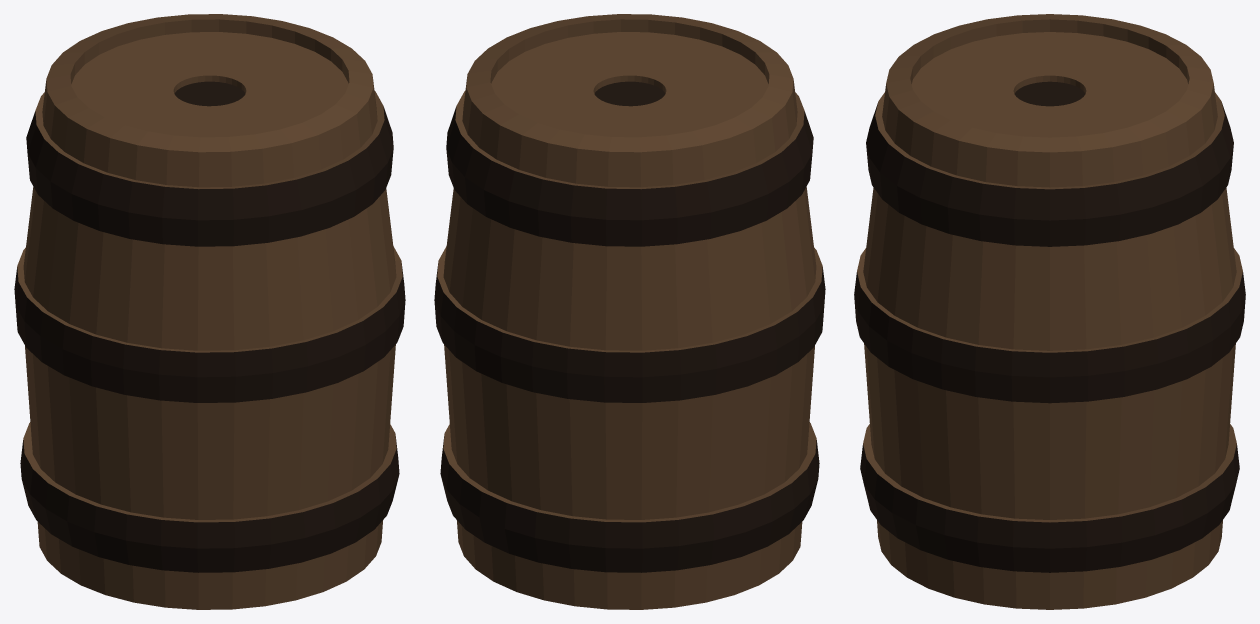
Rendered from DetailBarrel.fbx.
The picture shows the model from 3 angles, left to right: view 1: azimuth 30°, elevation 25°; view 2: azimuth 150°, elevation 25°; view 3: azimuth 270°, elevation 25°; orthographic projection.
Parts seen in each view (by area): view 1: Cylinder; view 2: Cylinder; view 3: Cylinder.
Part boxes in pixels (x1,y1,x2,y2): Cylinder: (14, 14, 405, 609); Cylinder: (434, 14, 825, 609); Cylinder: (854, 14, 1245, 609).
Size of the model in its own units: 228 by 295 by 228.
